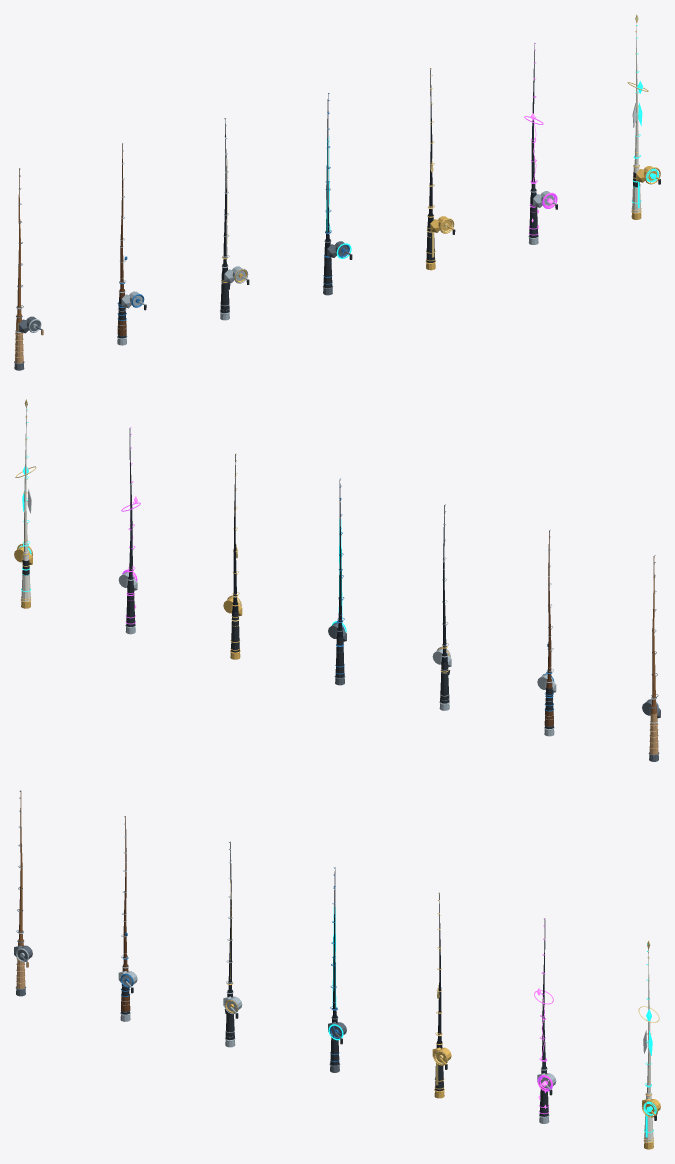
The model's file is FishingRods.fbx.
3 renders of one model, top to bottom at view 1: azimuth 30°, elevation 25°; view 2: azimuth 150°, elevation 25°; view 3: azimuth 330°, elevation 25°, orthographic.
Visible parts, largest first — view 1: All14_Pro_Tier_7, All14_Pro_Tier_6, All14_Pro_Tier_4, All14_Pro_Tier_3, All14_Pro_Tier_5, All14_Pro_Tier_2, All14_Pro_Tier_1.001; view 2: All14_Pro_Tier_7, All14_Pro_Tier_6, All14_Pro_Tier_4, All14_Pro_Tier_2, All14_Pro_Tier_1.001, All14_Pro_Tier_5, All14_Pro_Tier_3; view 3: All14_Pro_Tier_7, All14_Pro_Tier_6, All14_Pro_Tier_4, All14_Pro_Tier_1.001, All14_Pro_Tier_2, All14_Pro_Tier_5, All14_Pro_Tier_3.
Boxes of the visible parts, x1=… form: All14_Pro_Tier_7: x1=627, y1=14, x2=660, y2=219; All14_Pro_Tier_6: x1=524, y1=43, x2=557, y2=244; All14_Pro_Tier_4: x1=323, y1=93, x2=352, y2=295; All14_Pro_Tier_3: x1=220, y1=118, x2=249, y2=320; All14_Pro_Tier_5: x1=425, y1=68, x2=455, y2=270; All14_Pro_Tier_2: x1=117, y1=143, x2=146, y2=345; All14_Pro_Tier_1.001: x1=14, y1=168, x2=43, y2=370; All14_Pro_Tier_7: x1=14, y1=399, x2=36, y2=608; All14_Pro_Tier_6: x1=118, y1=427, x2=140, y2=634; All14_Pro_Tier_4: x1=328, y1=478, x2=346, y2=685; All14_Pro_Tier_2: x1=537, y1=529, x2=556, y2=736; All14_Pro_Tier_1.001: x1=642, y1=555, x2=660, y2=761; All14_Pro_Tier_5: x1=223, y1=453, x2=242, y2=659; All14_Pro_Tier_3: x1=432, y1=504, x2=451, y2=710; All14_Pro_Tier_7: x1=638, y1=940, x2=660, y2=1149; All14_Pro_Tier_6: x1=534, y1=918, x2=556, y2=1123; All14_Pro_Tier_4: x1=328, y1=867, x2=346, y2=1072; All14_Pro_Tier_1.001: x1=14, y1=790, x2=32, y2=996; All14_Pro_Tier_2: x1=118, y1=816, x2=137, y2=1021; All14_Pro_Tier_5: x1=432, y1=892, x2=451, y2=1098; All14_Pro_Tier_3: x1=223, y1=841, x2=242, y2=1047.
Size of the model in its own units: 776 by 237 by 31.63.
